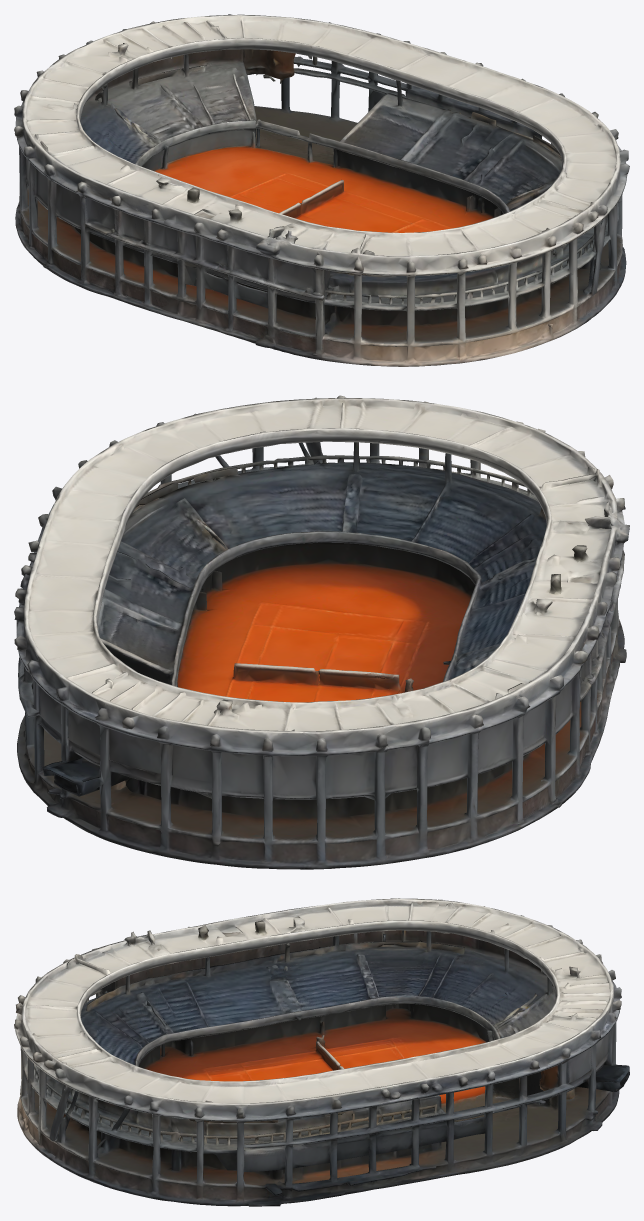
The model's file is stadion_rom.glb.
3 views of the same model, one above another, from view 1: azimuth 30°, elevation 25°; view 2: azimuth 150°, elevation 25°; view 3: azimuth 270°, elevation 25° (orthographic). The views are drawn at different scales.
Visible parts, largest first — view 1: tripo_node_005f1c64-efbe-4370-9bcd-e08c0597890e; view 2: tripo_node_005f1c64-efbe-4370-9bcd-e08c0597890e; view 3: tripo_node_005f1c64-efbe-4370-9bcd-e08c0597890e.
Boxes of the visible parts, x1,y1,x2,y2 form: tripo_node_005f1c64-efbe-4370-9bcd-e08c0597890e: (14, 14, 629, 366); tripo_node_005f1c64-efbe-4370-9bcd-e08c0597890e: (14, 395, 629, 869); tripo_node_005f1c64-efbe-4370-9bcd-e08c0597890e: (14, 898, 629, 1206).
Size of the model in its own units: 0.8376 by 0.1964 by 1.
1 material, 1 textured.
